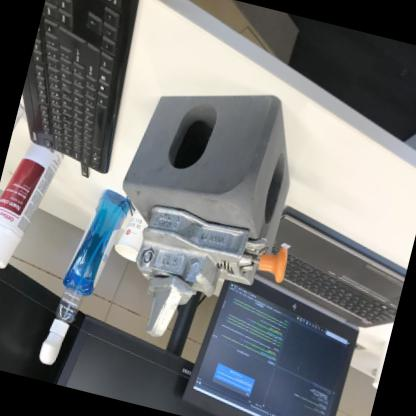CornerCasting: (117, 65, 314, 264)
Twistlock: (107, 198, 298, 370)
